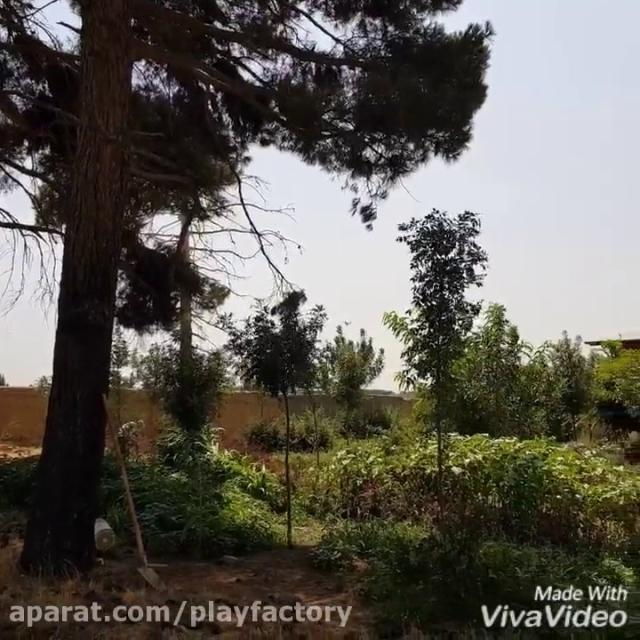drone: (340, 317, 354, 327)
